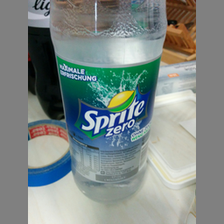soda: (50, 1, 168, 202)
